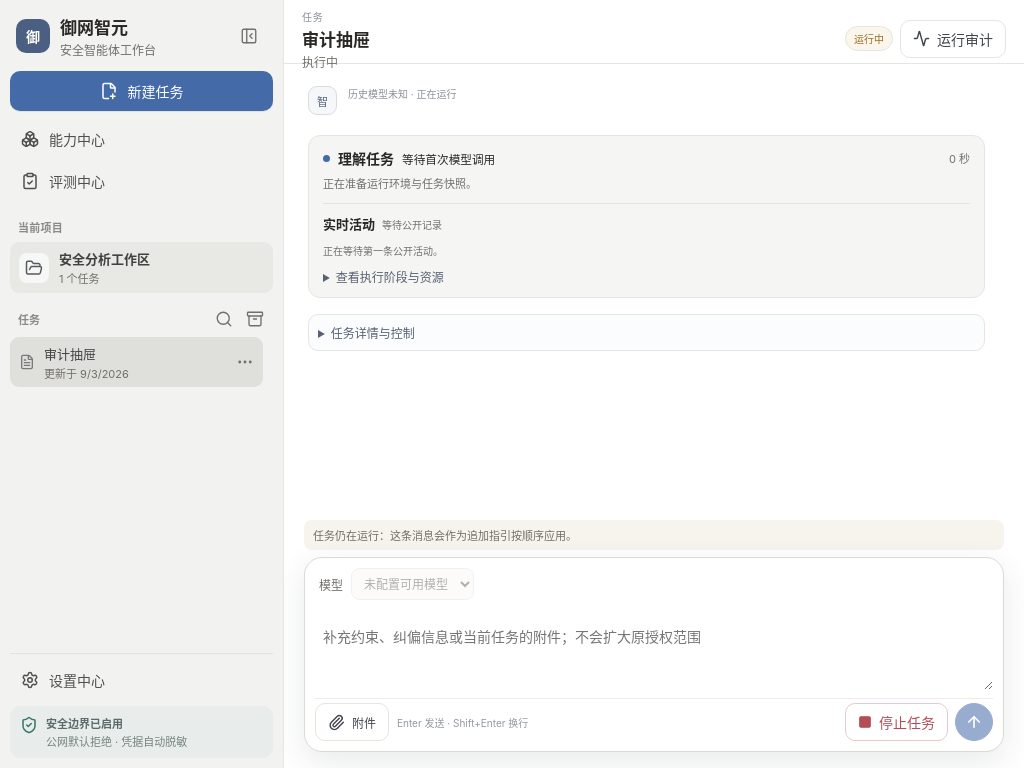
Test case: App › 刷新界面偏好不会关闭用户已打开的运行审计
Click the button "运行审计": (953, 38) [900, 20, 1006, 58]
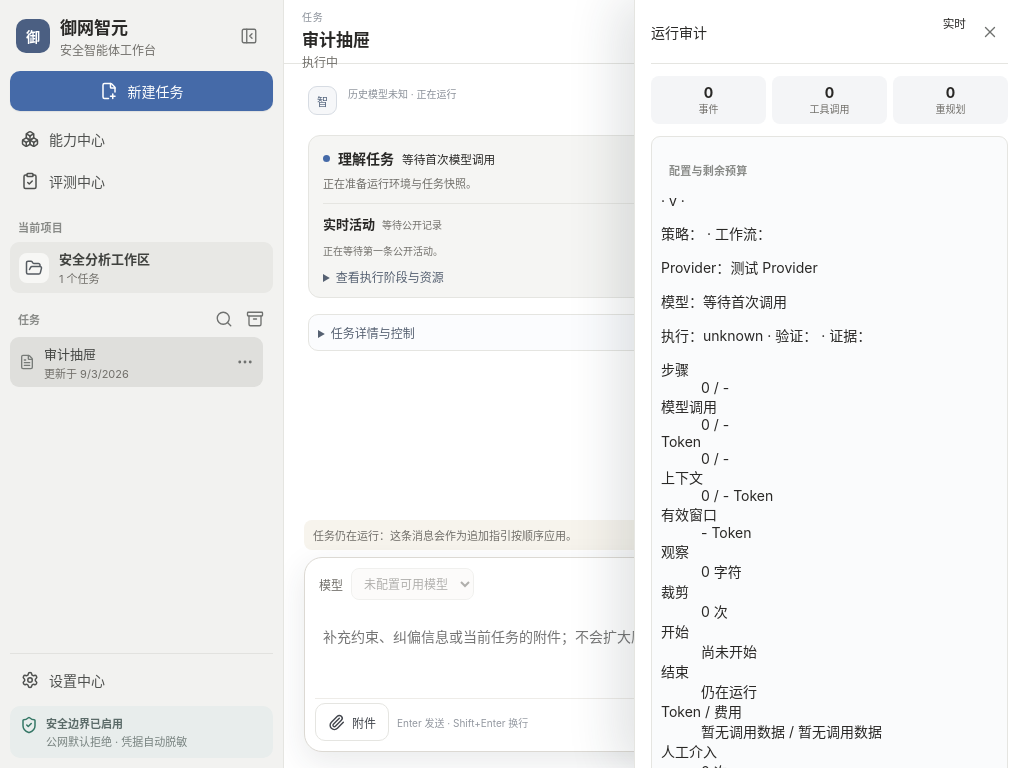
Now the element with class "open" is shown, box [634, 0, 1023, 767]
Click the button "设置中心": (77, 680) [10, 660, 273, 700]
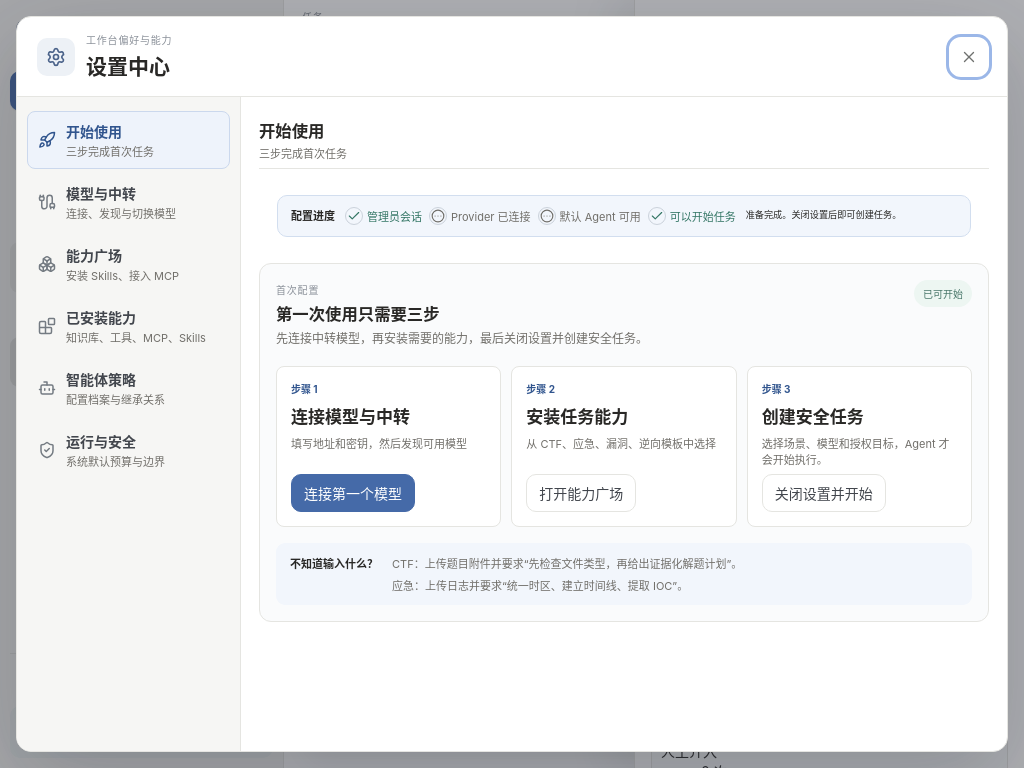
Now the element with class "open" is shown, box [634, 0, 1023, 767]
Now the dialog "设置中心" is shown
